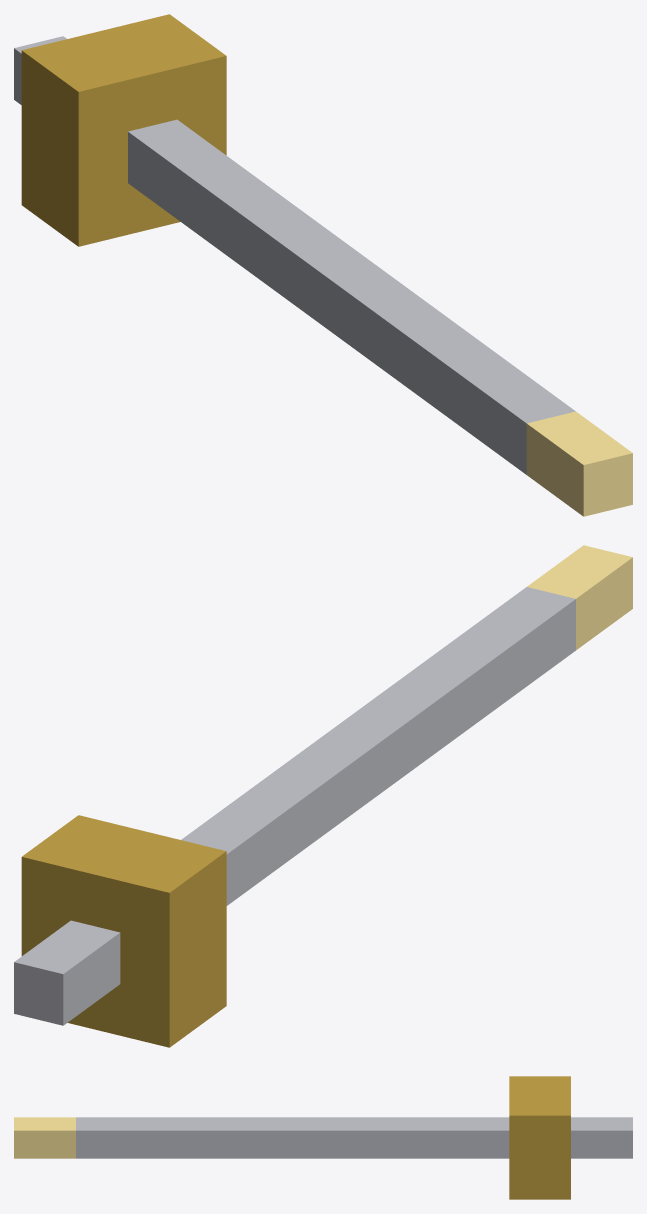
The model's file is vox_wand_star.glb.
3 views of the same model, one above another, from view 1: azimuth 30°, elevation 25°; view 2: azimuth 150°, elevation 25°; view 3: azimuth 270°, elevation 25° (orthographic). The views are drawn at different scales.
Visible parts, largest first — view 1: vox_wand_star; view 2: vox_wand_star; view 3: vox_wand_star.
Boxes of the visible parts, bbox=[...] form: vox_wand_star: bbox=[14, 14, 632, 516]; vox_wand_star: bbox=[14, 545, 632, 1047]; vox_wand_star: bbox=[14, 1076, 632, 1199].
Size of the model in its own units: 0.06 by 0.06 by 0.4.
